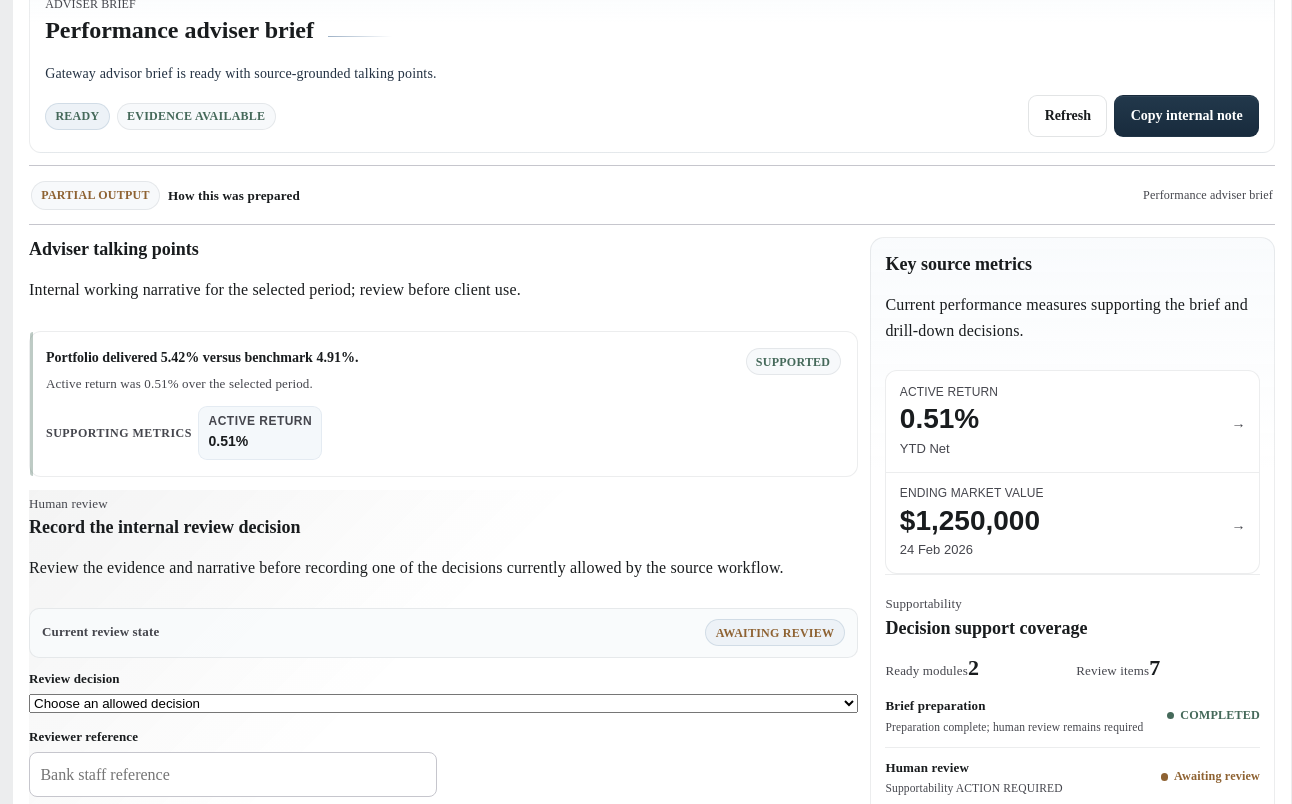
Test case: PerformanceAdvisorBriefMode › requires replacement lineage input for revision actions before posting the bounded review action
Select "Request revision" in the dropdown labelled "Review decision" at point(443, 704), box x1=29 y1=694 x2=858 y2=713
(page scrolled)
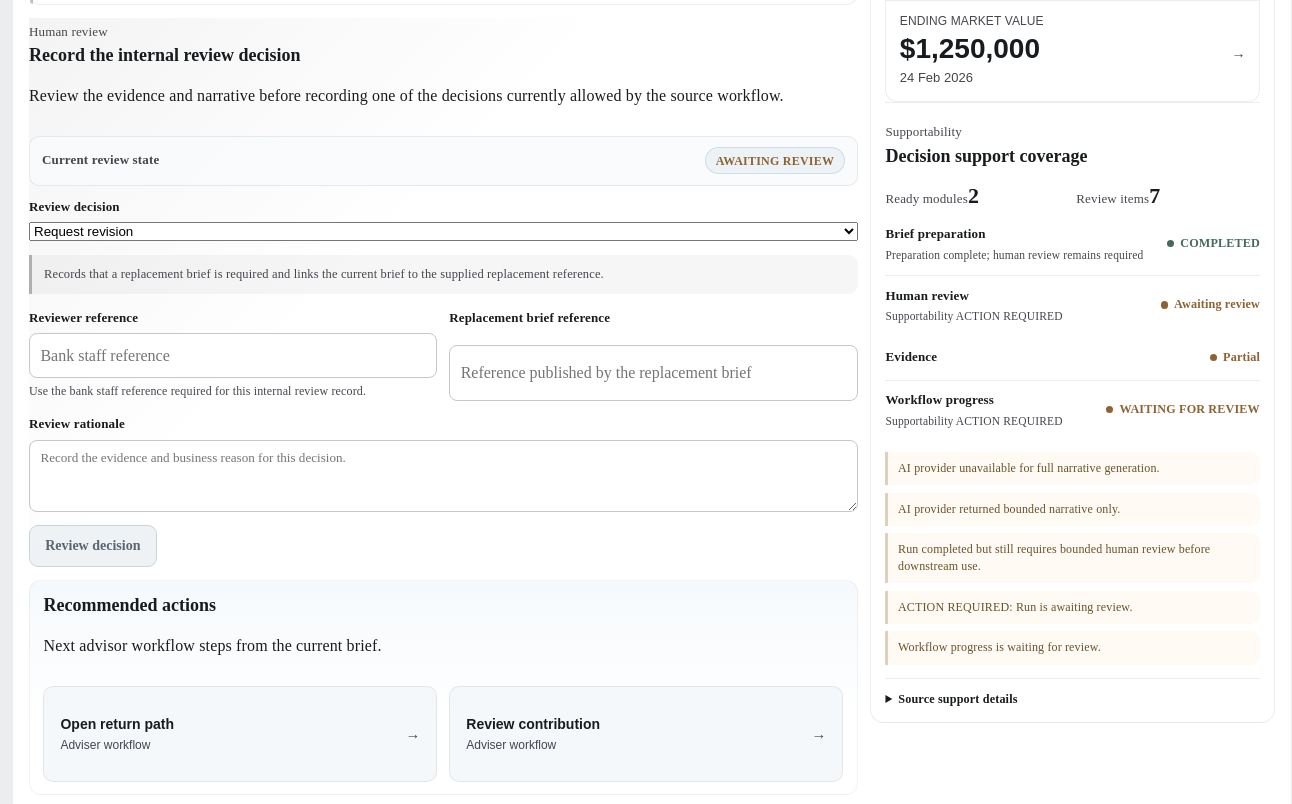
Type "advisor_2" into the field labelled "Reviewer reference" at point(233, 356), box x1=29 y1=333 x2=437 y2=378
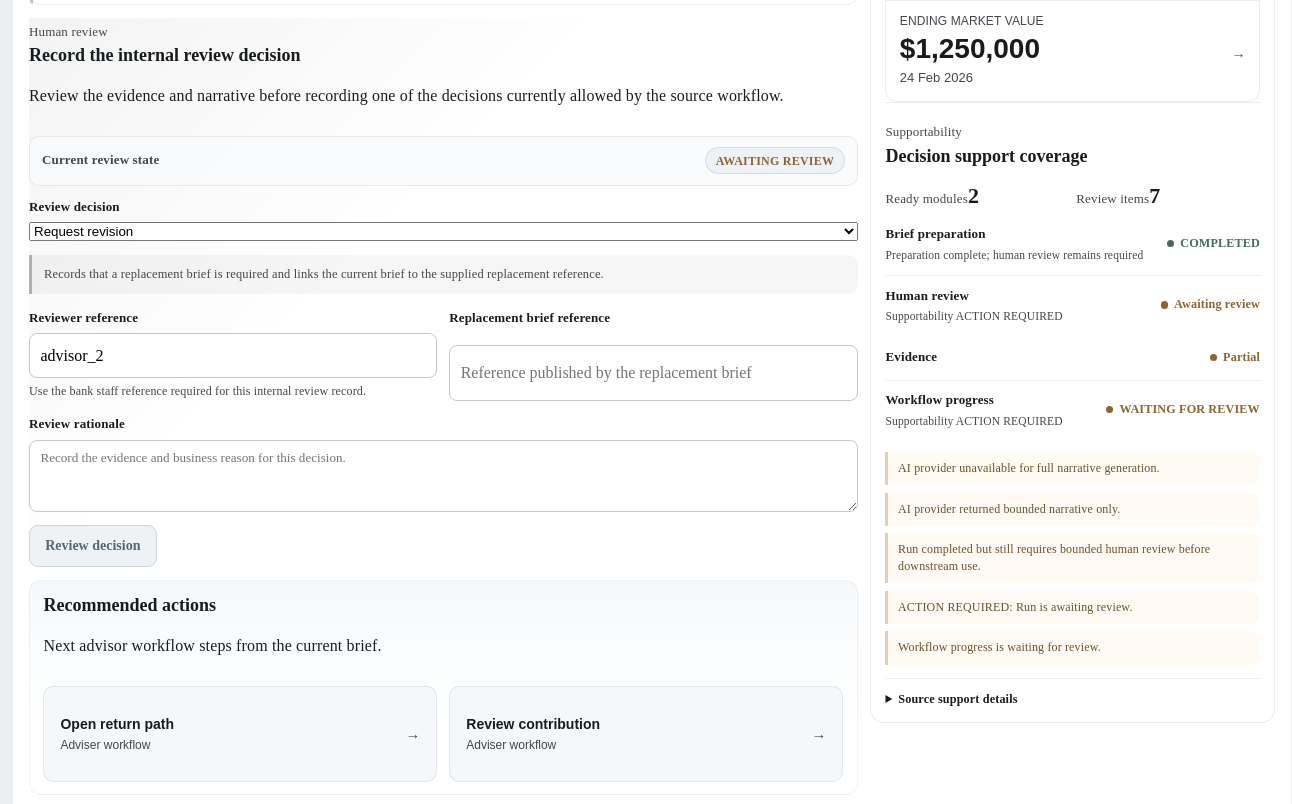
Type "A replacement advisor brief run is available for downstream use." into the text box labelled "Review rationale" at point(443, 476), box x1=29 y1=440 x2=858 y2=512
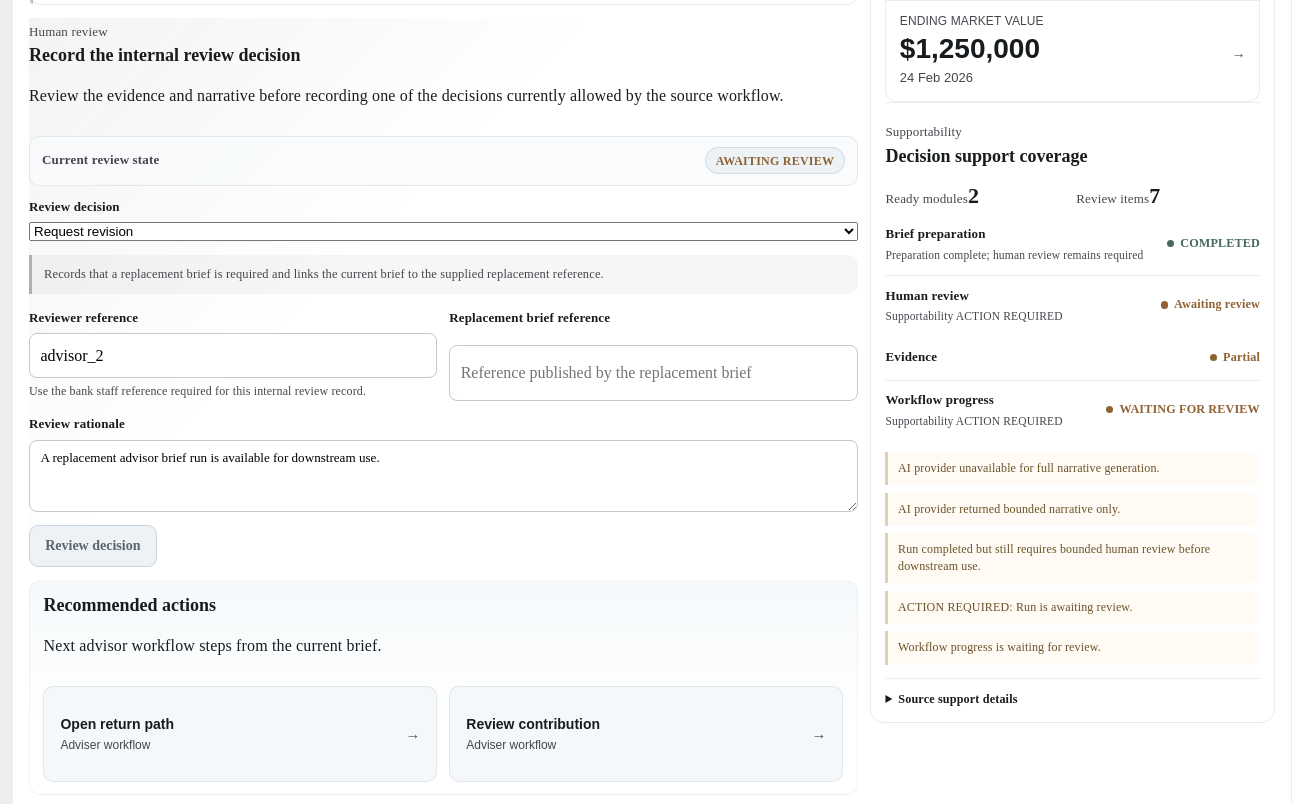
Expected: the button "Review decision" is disabled, x1=29 y1=525 x2=157 y2=567
Type "packrun_advisor_brief_req-2" into the field labelled "Replacement brief reference" at point(653, 373), box x1=449 y1=345 x2=858 y2=401
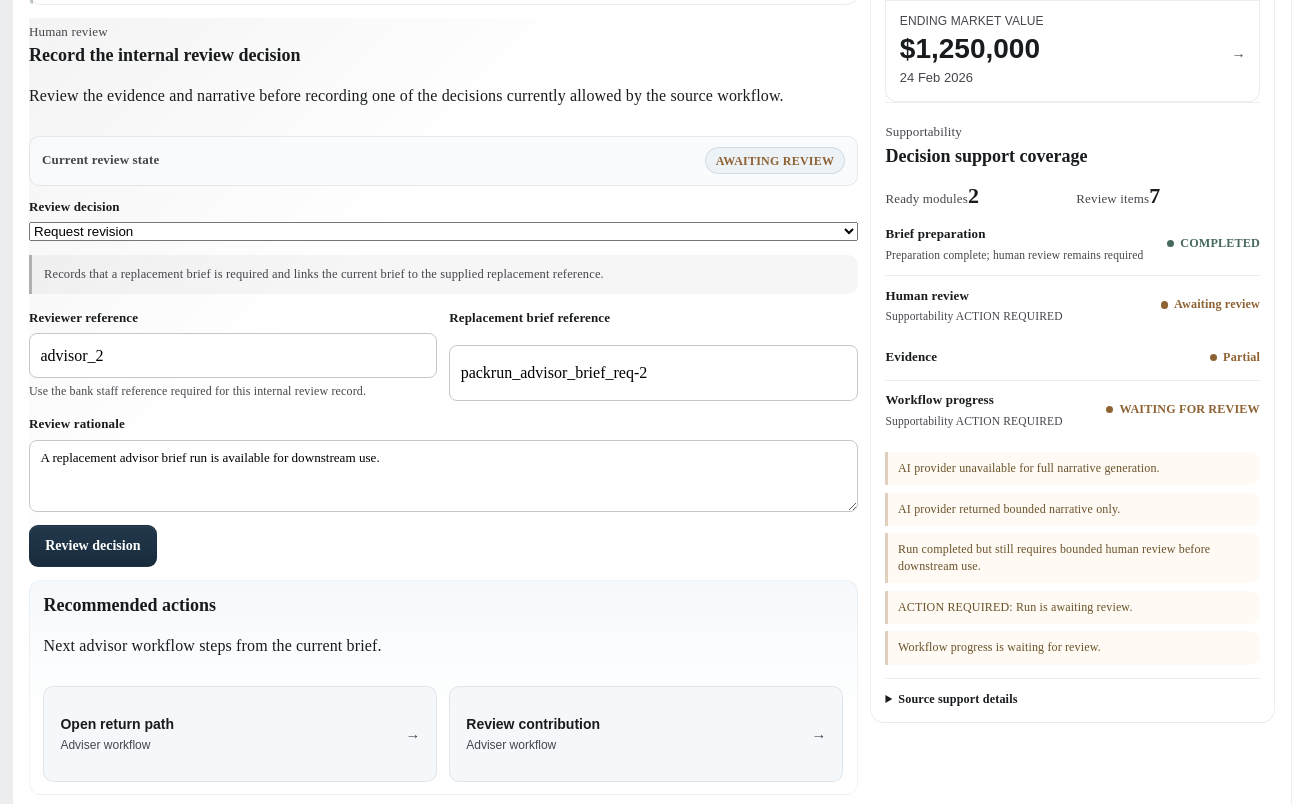
Result: the button "Review decision" is enabled
Click the button "Review decision" at point(93, 546), box x1=29 y1=525 x2=157 y2=567
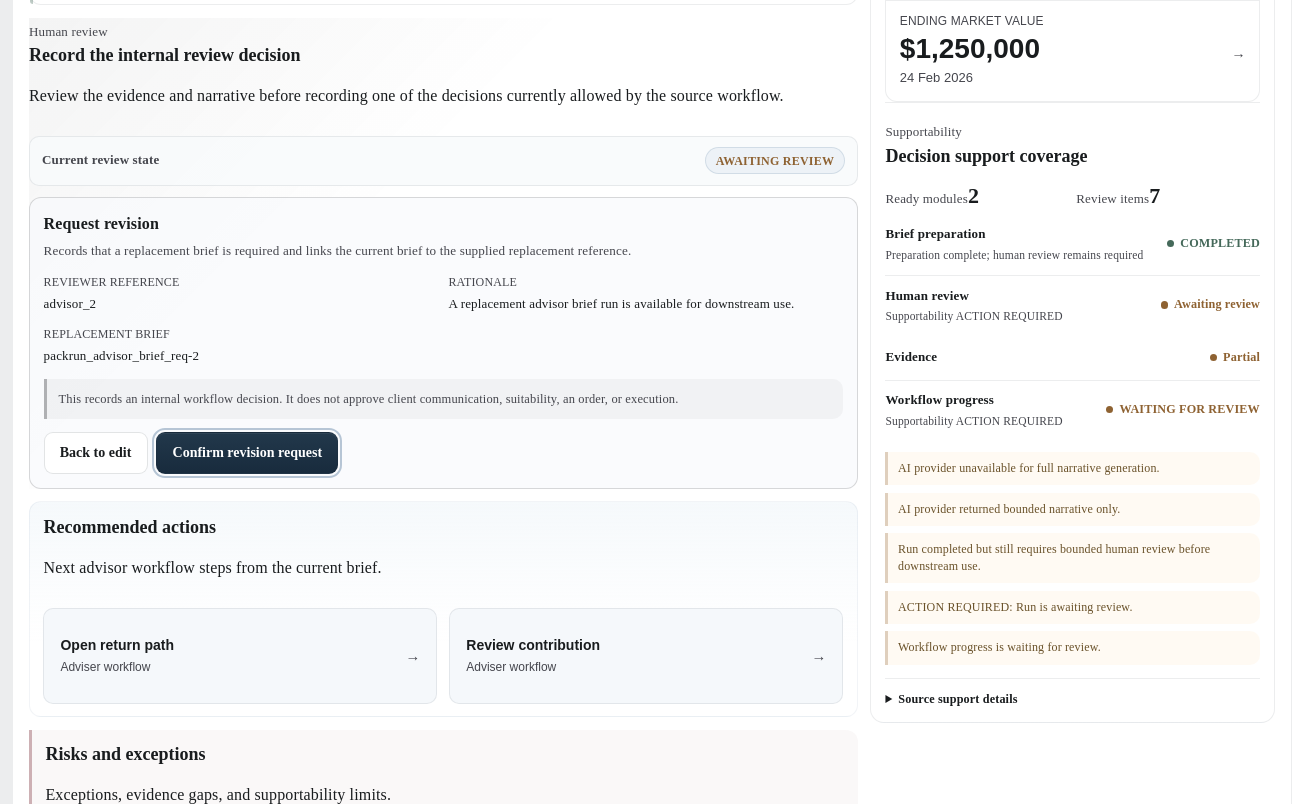
Click the button "Confirm revision request" at point(247, 453), box x1=156 y1=432 x2=338 y2=474
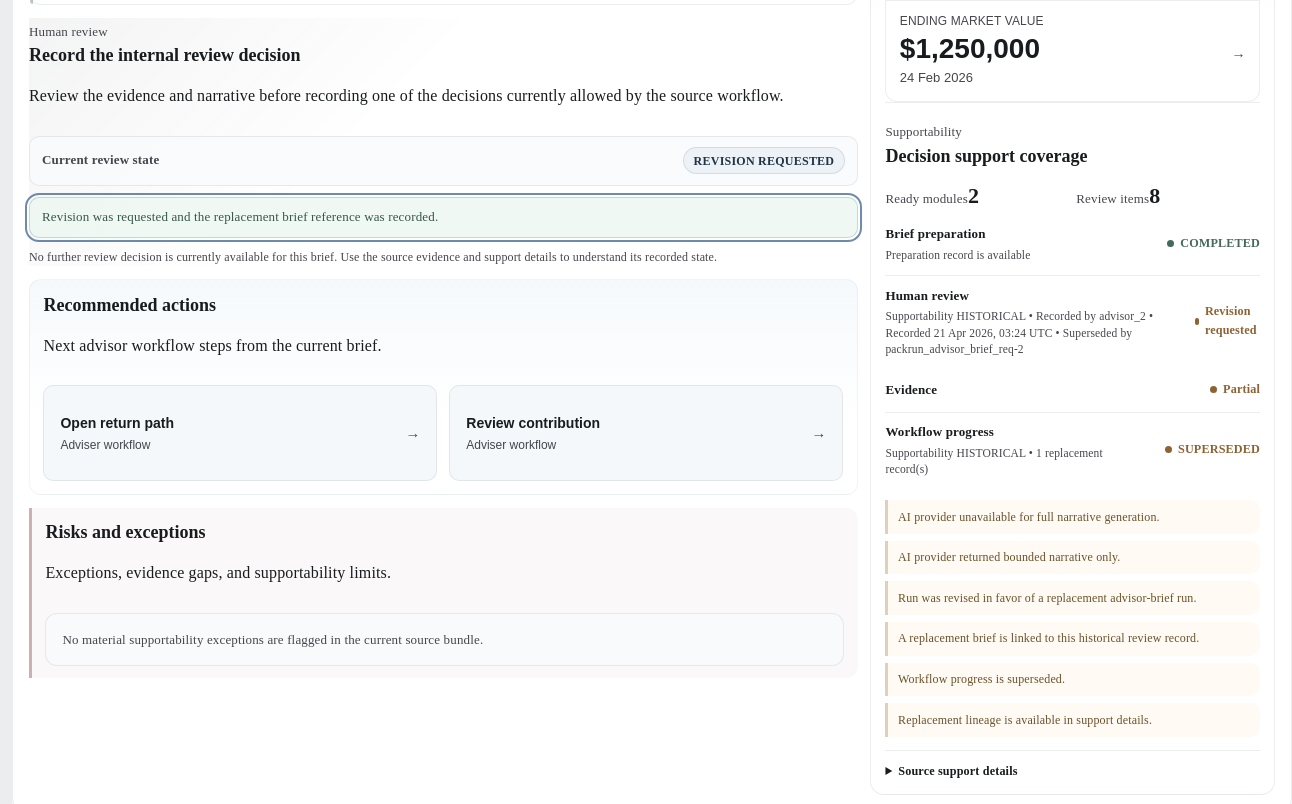
Result: the element named "Adviser brief supportability" shows "Run was revised in favor of a replacement advisor-brief run." at x1=898 y1=591 x2=1197 y2=605
